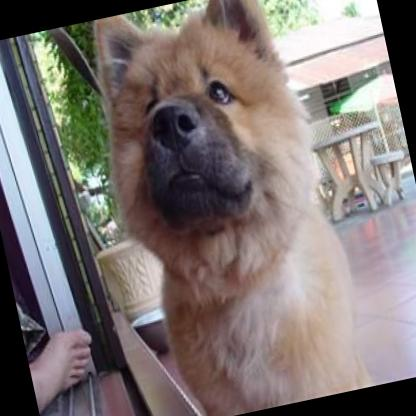chow: (71, 0, 374, 416)
